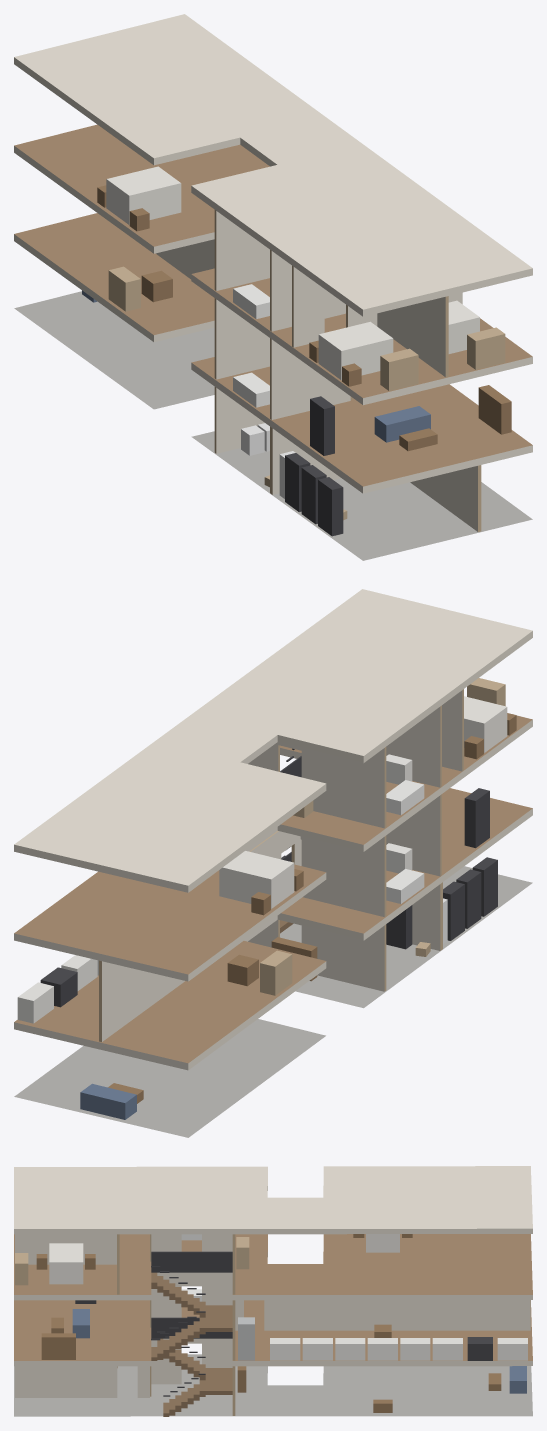
The model's file is interior.glb.
3 views of the same model, one above another, from view 1: azimuth 30°, elevation 25°; view 2: azimuth 150°, elevation 25°; view 3: azimuth 270°, elevation 25° (orthographic). The views are drawn at different scales.
Visible parts, largest first — view 1: slabs, partitions, coarse-s2, coarse-s1, coarse-s0; view 2: slabs, partitions, coarse-s2, coarse-s1, coarse-s0; view 3: slabs, partitions, coarse-s1, stair, coarse-s2, coarse-s0.
Boxes of the visible parts, left/top/right/bottom form: slabs: left=14, top=14, right=532, bottom=560; partitions: left=156, top=210, right=481, bottom=531; coarse-s2: left=97, top=166, right=505, bottom=390; coarse-s1: left=108, top=266, right=511, bottom=455; coarse-s0: left=82, top=290, right=347, bottom=536; slabs: left=14, top=589, right=532, bottom=1137; partitions: left=99, top=689, right=463, bottom=1041; coarse-s2: left=219, top=678, right=516, bottom=915; coarse-s1: left=17, top=788, right=489, bottom=1023; coarse-s0: left=80, top=857, right=497, bottom=1119; slabs: left=14, top=1166, right=532, bottom=1416; partitions: left=15, top=1234, right=530, bottom=1415; coarse-s1: left=41, top=1289, right=527, bottom=1360; stair: left=151, top=1251, right=232, bottom=1416; coarse-s2: left=15, top=1234, right=412, bottom=1285; coarse-s0: left=117, top=1366, right=526, bottom=1412.
Bounding box in the file's own units: 6.65 × 9.25 × 23.15.
